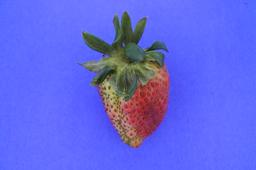red strawberry: (81, 14, 171, 149)
